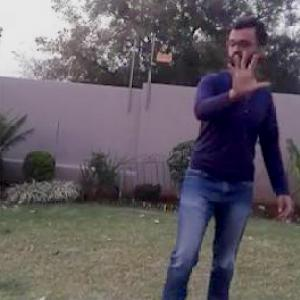follow_hand: (225, 45, 273, 98)
